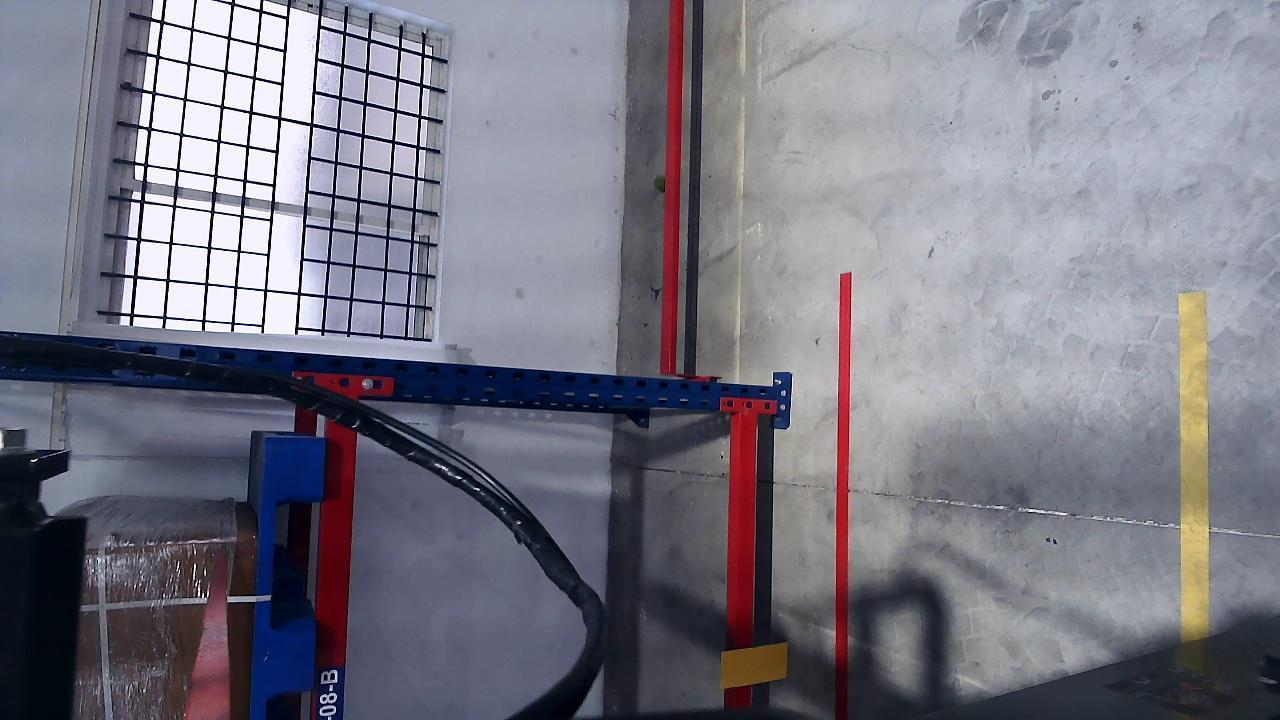red_line: (835, 272, 851, 720)
yellow_line: (1177, 291, 1210, 640)
